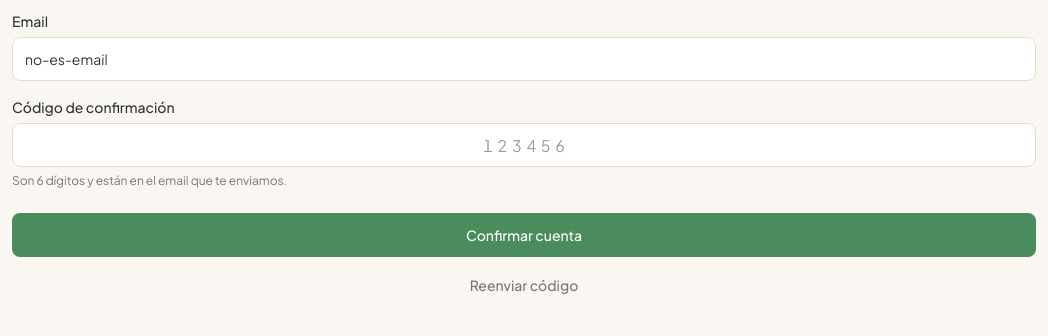
Test: ConfirmRegistrationForm — reenviar código (S5) › does not spend a resend on an email that fails the schema
The width and height of the screenshot is (1048, 336).
Step 1. Click the button "Reenviar código" → (524, 285), box [470,275,578,295]
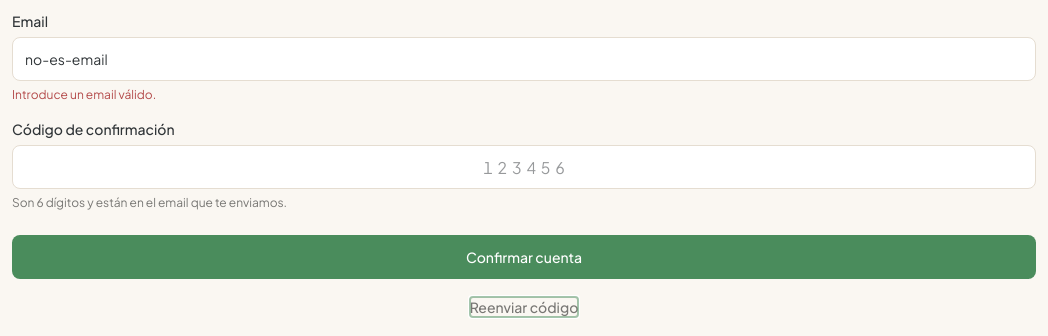
expect the button "Reenviar código" is enabled: met, box [470,297,578,317]
expect the message reads "Introduce un email válido.": met, box [12,87,156,102]
